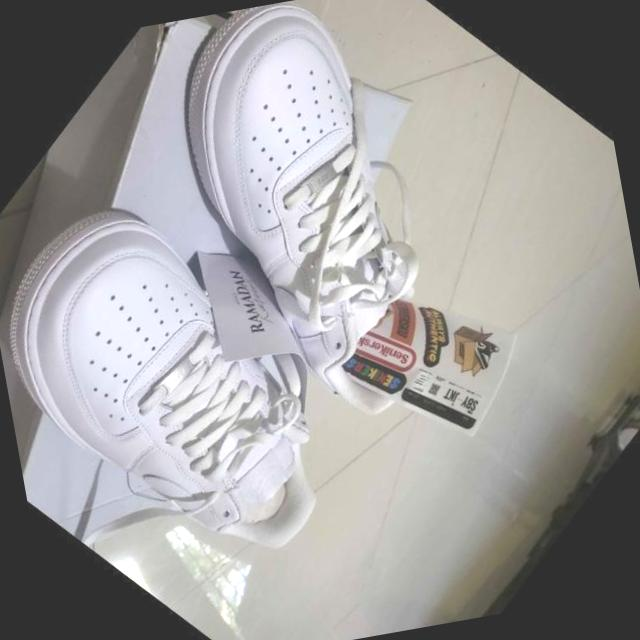nike_original_airforce: (51, 0, 586, 469), (0, 127, 430, 628)
